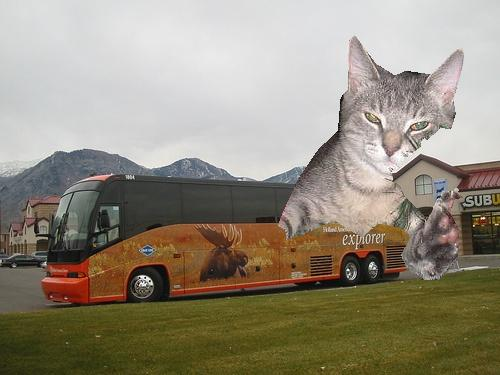tampered: (279, 36, 464, 280)
